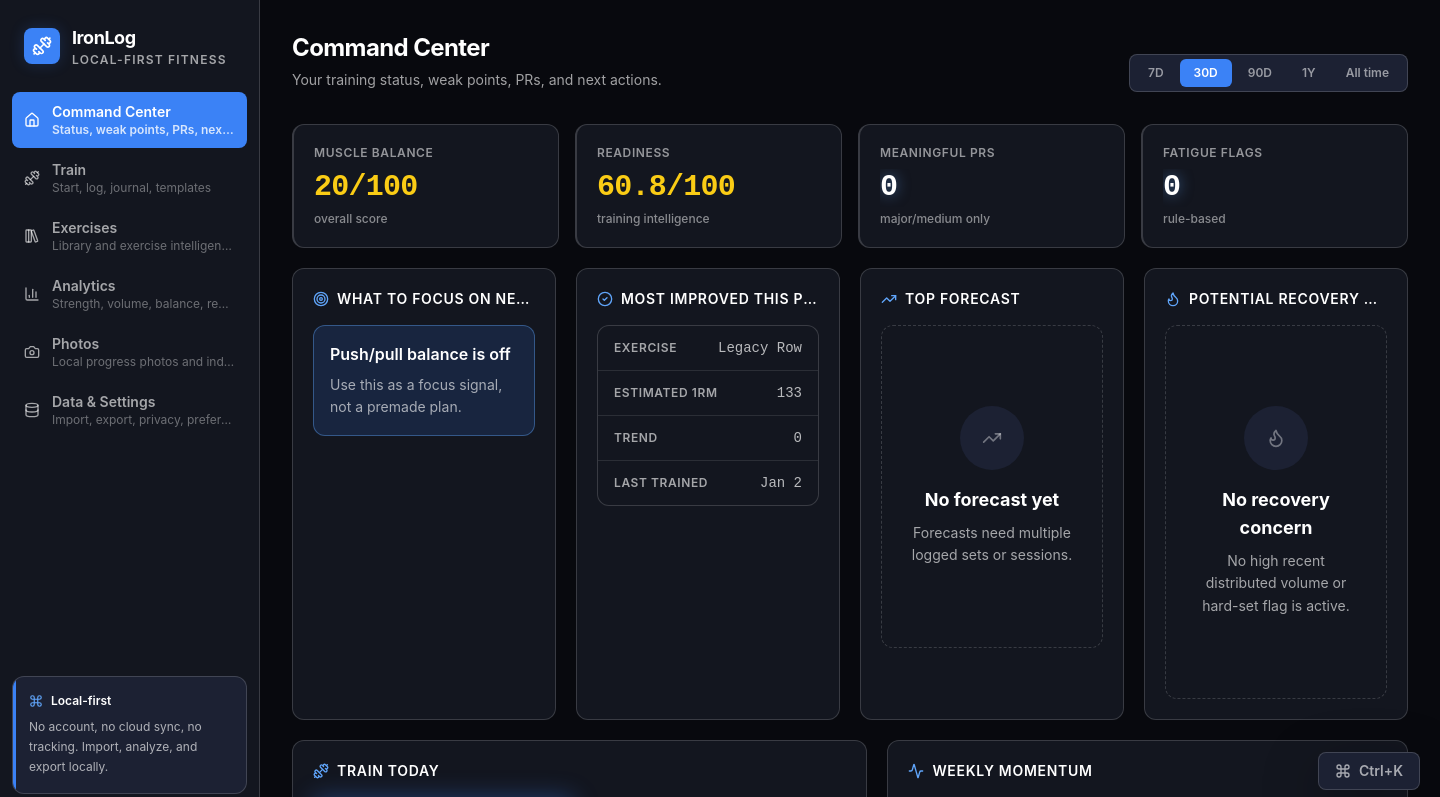
IronLog desktop command center › keeps exercise search stable for imported exercises with missing metadata
Click the button "Exercises" at (130, 236), box [12,208,247,264]
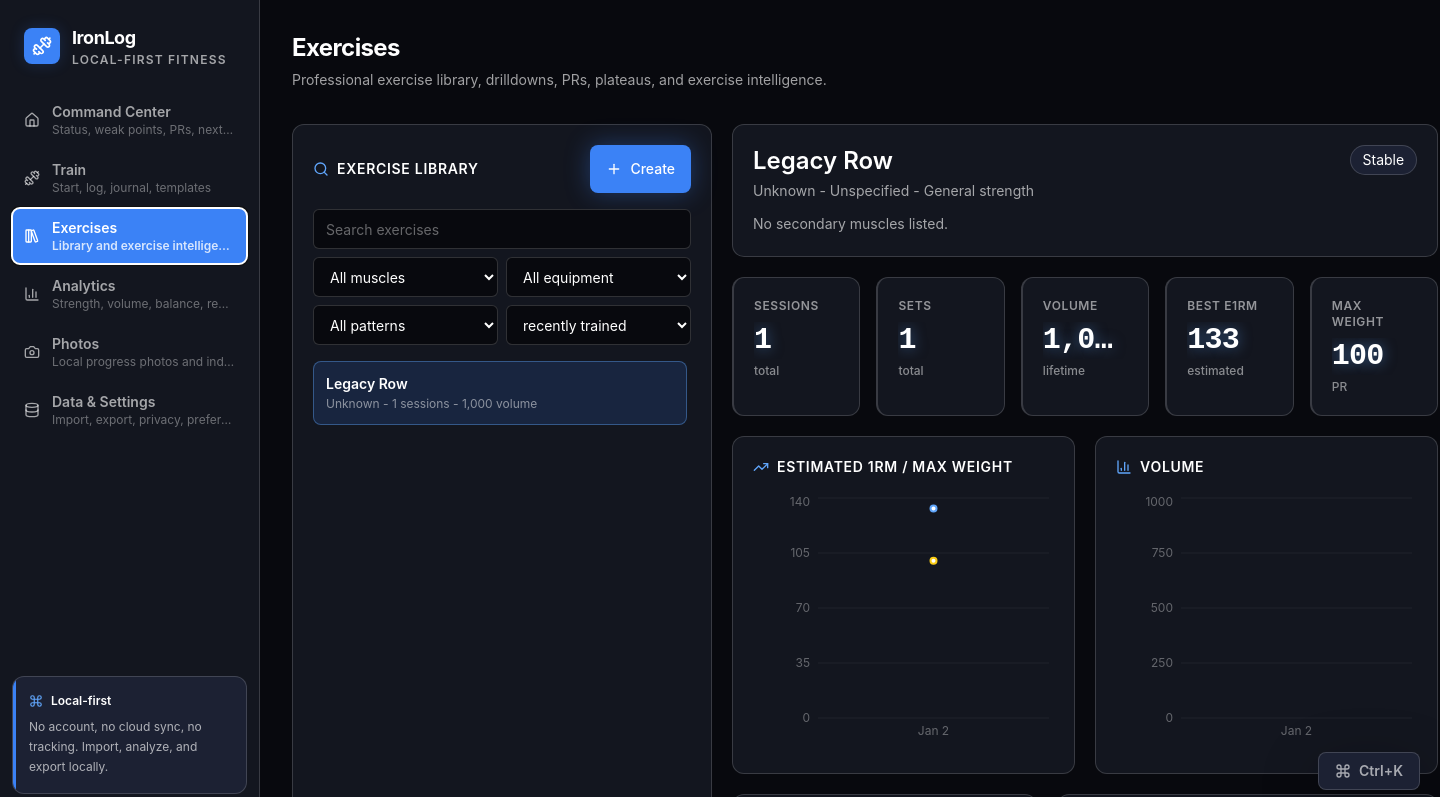
Type "legacy" into the field with placeholder "Search exercises" at (502, 229), box [313,209,691,249]
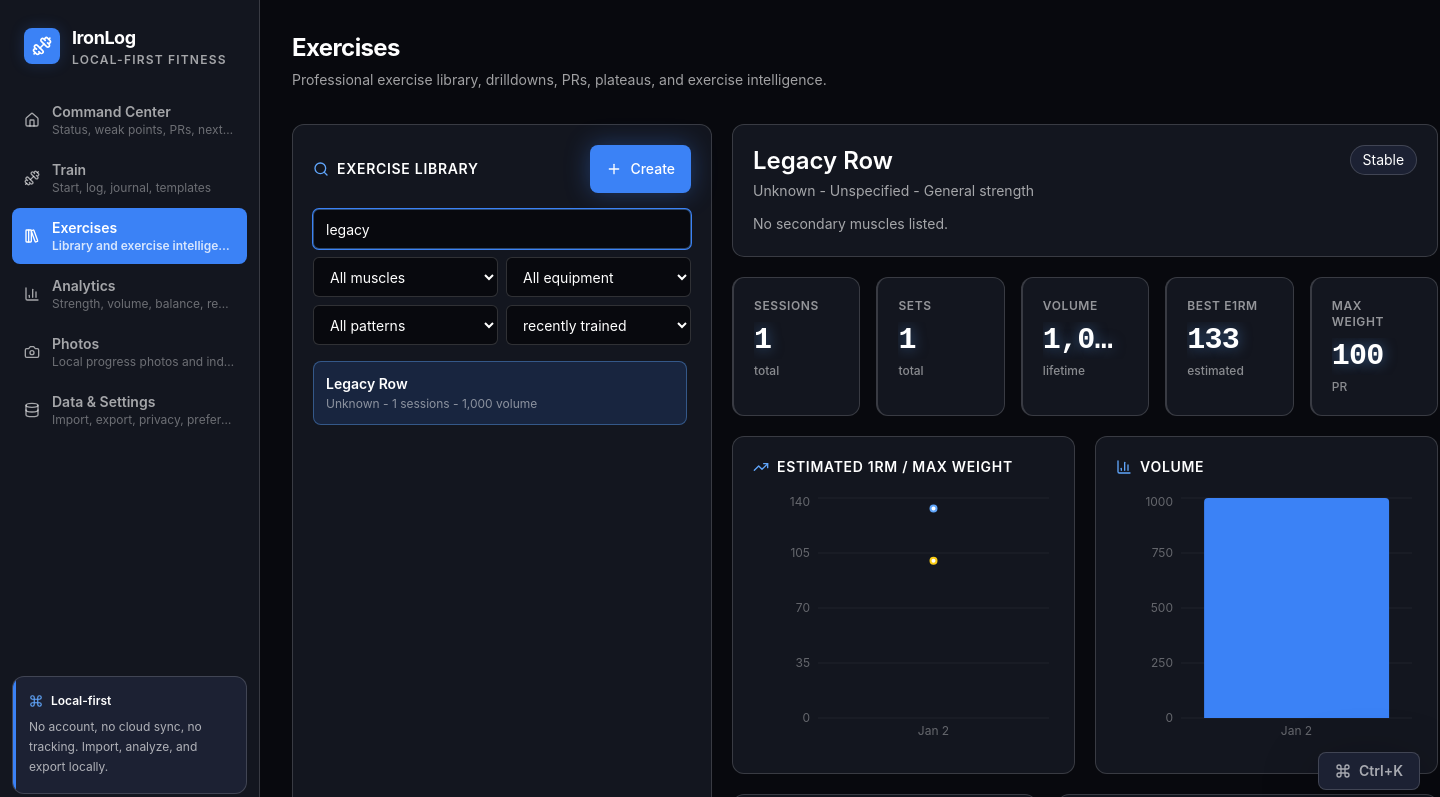
Check: the 2nd text "Legacy Row" is shown, box [326,374,408,394]
Check: the text "No secondary muscles listed." is shown, box [753,215,948,232]
Replace the text in the field with placeholder "Search exercises" with "not real" at (502, 229), box [313,209,691,249]
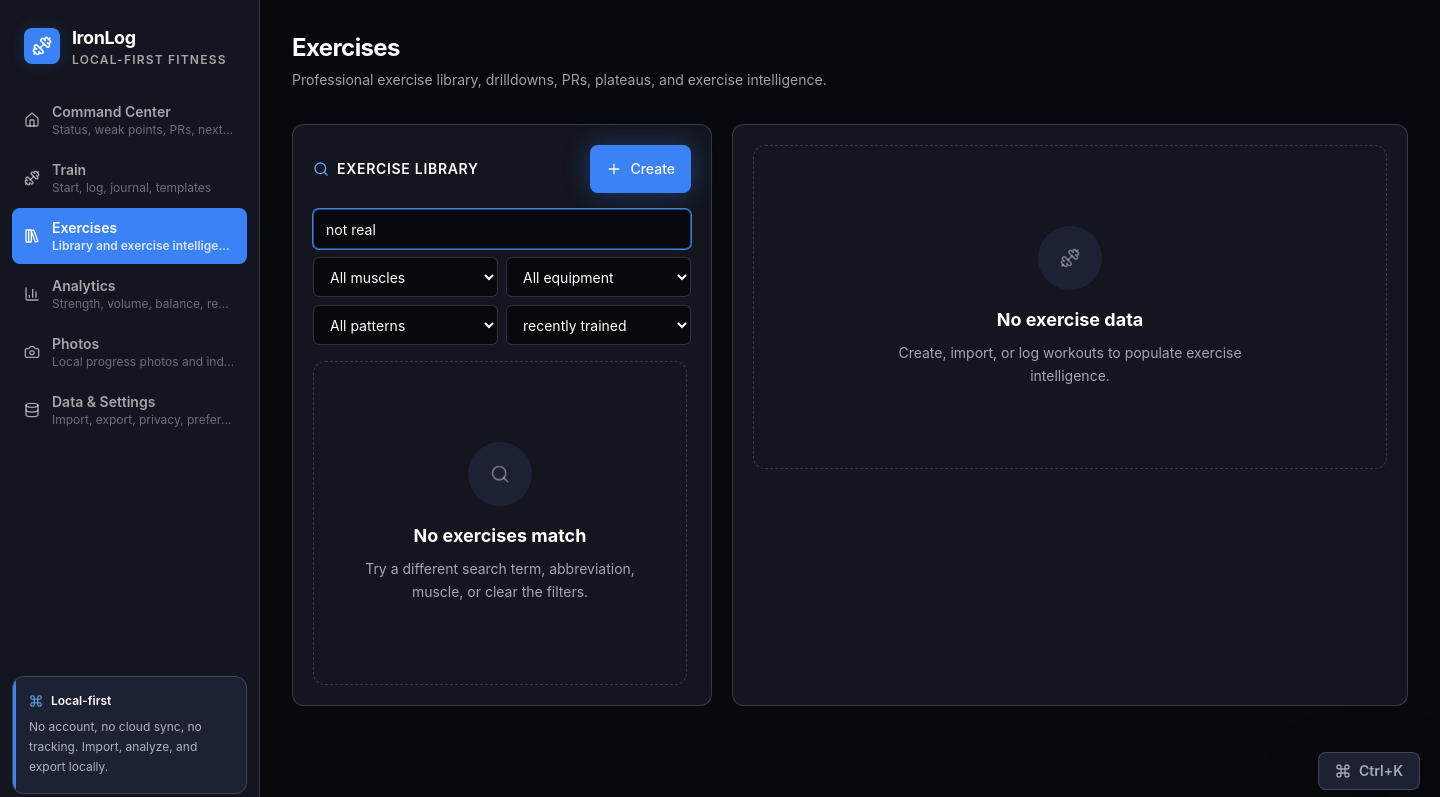
Check: the text "No exercises match" is shown, box [414,525,586,546]
